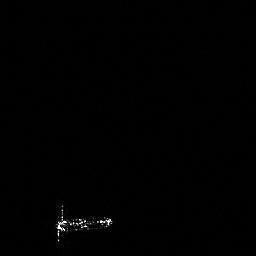ship: (48, 202, 118, 242)
